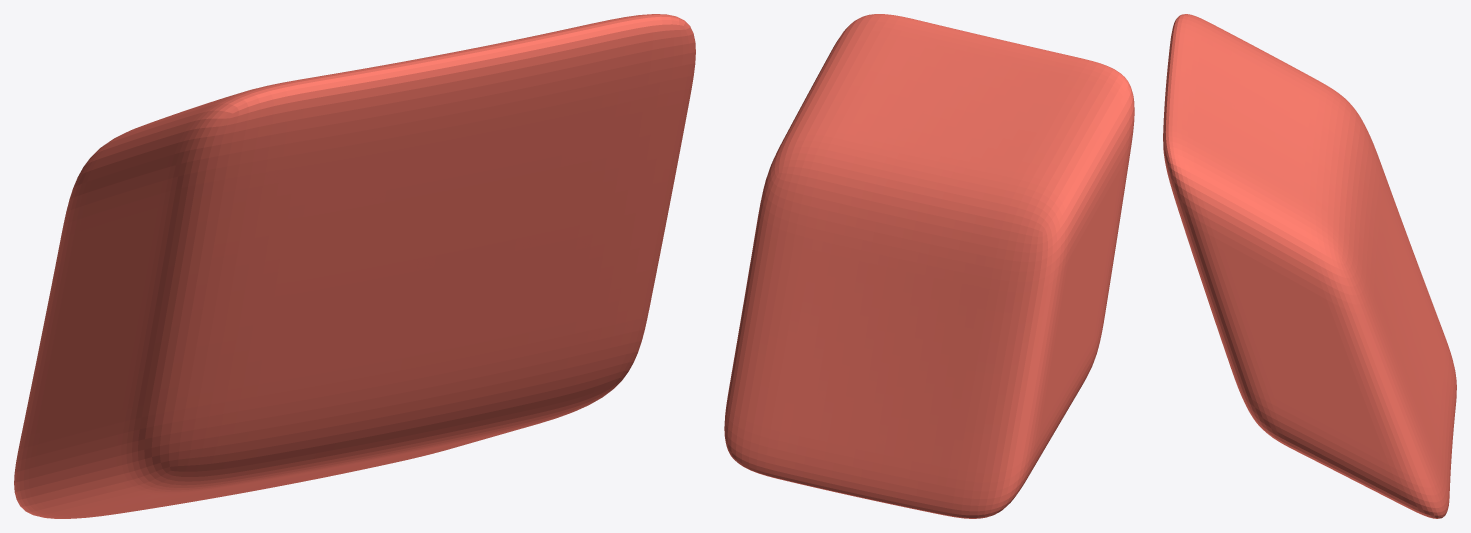
3 renders of one model, left to right at view 1: azimuth 30°, elevation 25°; view 2: azimuth 150°, elevation 25°; view 3: azimuth 270°, elevation 25°, orthographic. The views are drawn at different scales.
Parts seen in each view (by area): view 1: waves_1.026; view 2: waves_1.026; view 3: waves_1.026.
Part boxes in pixels (left/top/right/bottom): waves_1.026: left=14, top=14, right=695, bottom=518; waves_1.026: left=724, top=14, right=1134, bottom=518; waves_1.026: left=1163, top=14, right=1456, bottom=518.
Size of the model in its own units: 30.12 by 34.28 by 23.89.
